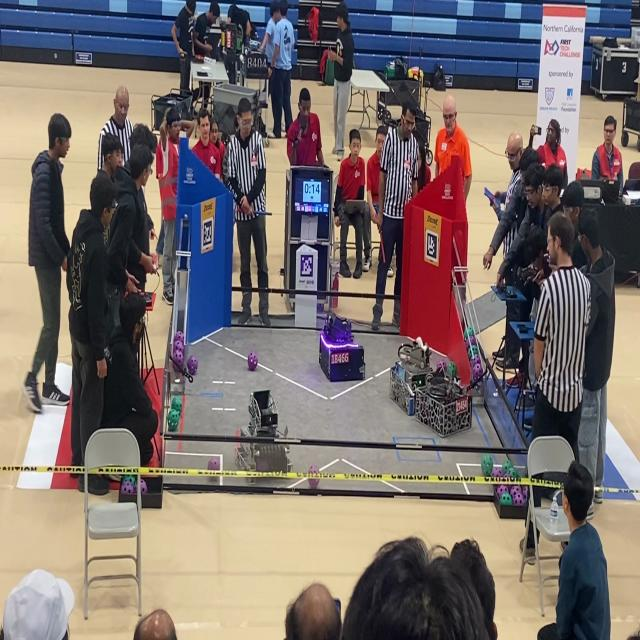artifact_green: (173, 345, 184, 372), (167, 409, 180, 431), (481, 454, 492, 477), (472, 364, 484, 382), (120, 481, 135, 494), (171, 396, 182, 413), (499, 492, 513, 505), (208, 456, 220, 471), (447, 361, 457, 378), (512, 494, 525, 507), (509, 485, 521, 499), (496, 485, 508, 498), (471, 354, 482, 367), (463, 327, 474, 340), (174, 331, 184, 345), (468, 345, 478, 359), (174, 338, 184, 351), (502, 460, 512, 473), (466, 336, 476, 348), (510, 467, 520, 479), (122, 475, 135, 484), (505, 468, 515, 479), (140, 479, 147, 494), (463, 328, 469, 340), (471, 345, 478, 355), (505, 468, 512, 478), (468, 348, 473, 360), (468, 326, 474, 335)
artifact_purple: (187, 355, 198, 375), (247, 351, 258, 371), (173, 348, 183, 369), (120, 481, 135, 494), (472, 364, 483, 381), (512, 494, 525, 506), (208, 457, 219, 471), (496, 485, 508, 497), (466, 336, 476, 350), (510, 485, 521, 497), (174, 331, 184, 344), (436, 359, 446, 372), (308, 478, 319, 489), (492, 467, 503, 478), (471, 354, 481, 366), (174, 338, 184, 349), (173, 343, 184, 353), (522, 486, 529, 501), (140, 479, 147, 494), (174, 342, 184, 351), (504, 469, 514, 478), (468, 336, 477, 345)
